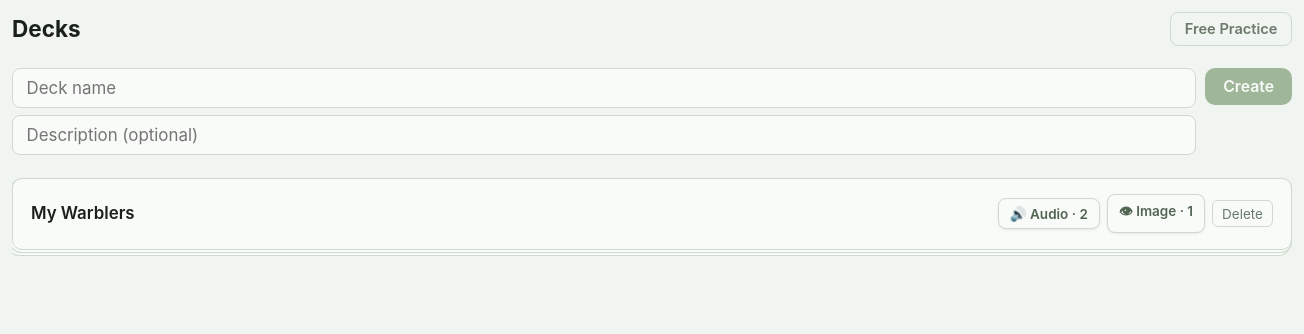
Scenario: Decks page › hides due badges in practice mode
Check: the button "🔊 Audio · 2" is shown, box [998,198,1100,229]
# Toggle practice mode
Click the button "Free Practice": (1231, 29) [1170,12,1292,46]
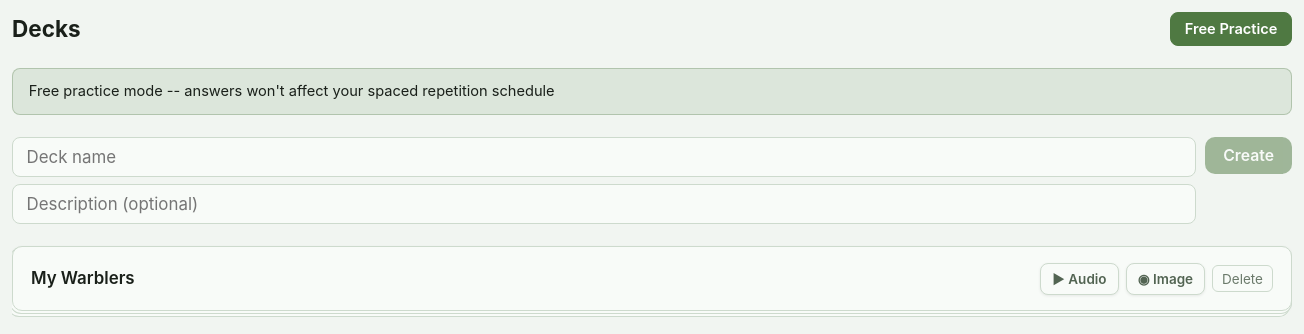
Check: the button "🔊 Audio" is gone
